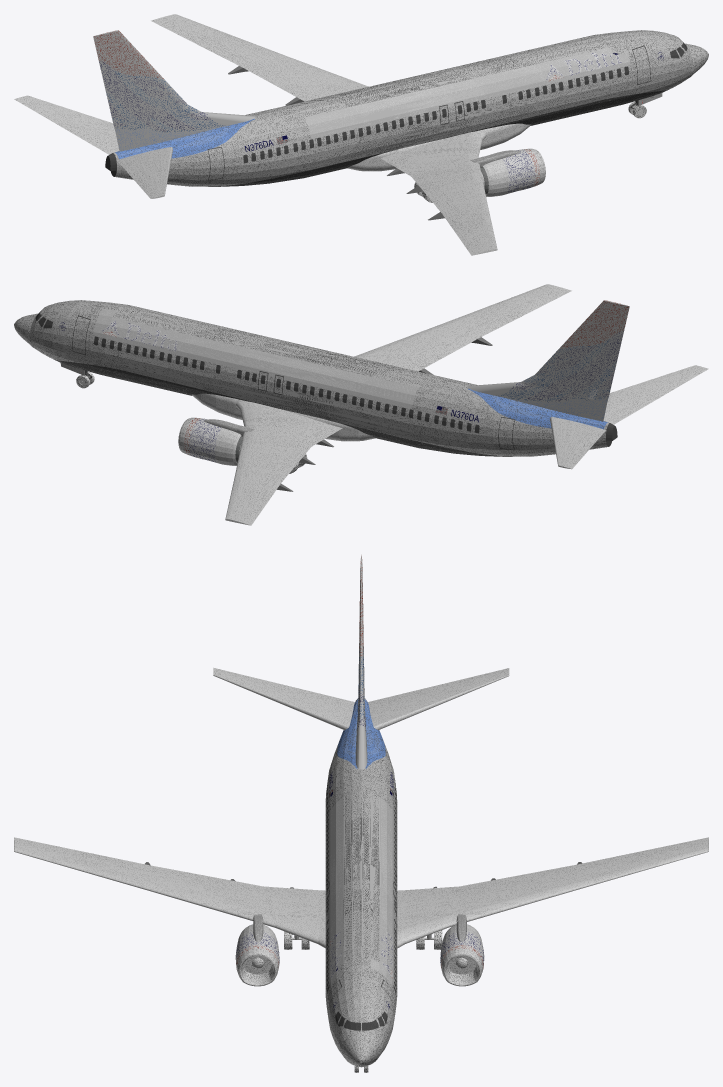
The picture shows the model from 3 angles, top to bottom: view 1: azimuth 30°, elevation 25°; view 2: azimuth 150°, elevation 25°; view 3: azimuth 270°, elevation 25°; orthographic projection. The views are drawn at different scales.
Parts seen in each view (by area): view 1: mesh67_mesh67-geometry, mesh30_mesh30-geometry, mesh48.001_mesh48-geometry, mesh54.001_mesh54-geometry, mesh32.002_mesh32-geometry, mesh44.002_mesh44-geometry, mesh43.002_mesh43-geometry; view 2: mesh67_mesh67-geometry, mesh30_mesh30-geometry, mesh54.001_mesh54-geometry, mesh48.001_mesh48-geometry, mesh56.002_mesh56-geometry, mesh43.002_mesh43-geometry, mesh44.002_mesh44-geometry; view 3: mesh67_mesh67-geometry, mesh48.001_mesh48-geometry, mesh54.001_mesh54-geometry, mesh43.002_mesh43-geometry, mesh44.002_mesh44-geometry, mesh32.002_mesh32-geometry, mesh56.002_mesh56-geometry, mesh30_mesh30-geometry.
Boxes of the visible parts, x1,y1,x2,y2 form: mesh67_mesh67-geometry: (105, 30, 708, 186); mesh30_mesh30-geometry: (93, 30, 255, 148); mesh48.001_mesh48-geometry: (380, 131, 497, 255); mesh54.001_mesh54-geometry: (151, 14, 368, 101); mesh32.002_mesh32-geometry: (480, 148, 545, 196); mesh44.002_mesh44-geometry: (14, 95, 119, 154); mesh43.002_mesh43-geometry: (117, 147, 172, 198); mesh67_mesh67-geometry: (14, 300, 617, 456); mesh30_mesh30-geometry: (467, 300, 629, 418); mesh54.001_mesh54-geometry: (225, 401, 342, 525); mesh48.001_mesh48-geometry: (354, 284, 571, 371); mesh56.002_mesh56-geometry: (178, 417, 242, 465); mesh43.002_mesh43-geometry: (603, 365, 708, 424); mesh44.002_mesh44-geometry: (550, 417, 605, 469); mesh67_mesh67-geometry: (325, 698, 397, 1067); mesh48.001_mesh48-geometry: (14, 837, 325, 948); mesh54.001_mesh54-geometry: (397, 837, 708, 948); mesh43.002_mesh43-geometry: (213, 667, 354, 730); mesh44.002_mesh44-geometry: (368, 668, 509, 730); mesh32.002_mesh32-geometry: (235, 924, 279, 986); mesh56.002_mesh56-geometry: (440, 924, 484, 986); mesh30_mesh30-geometry: (355, 554, 367, 769).
Bounding box in the file's own units: 0.7261 × 0.2386 × 0.6449.
